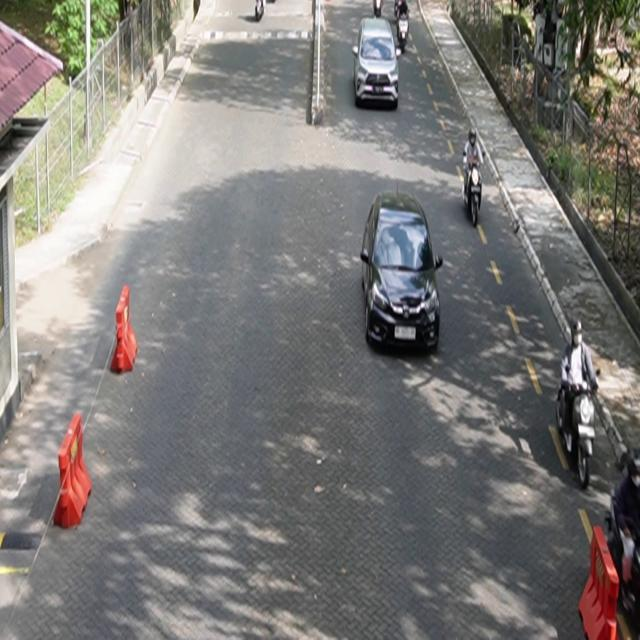car: (361, 190, 444, 354), (353, 17, 401, 111)
